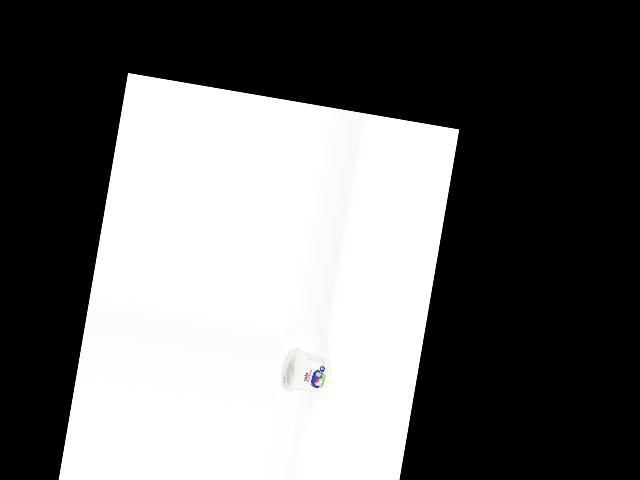cotage: (278, 345, 335, 400)
